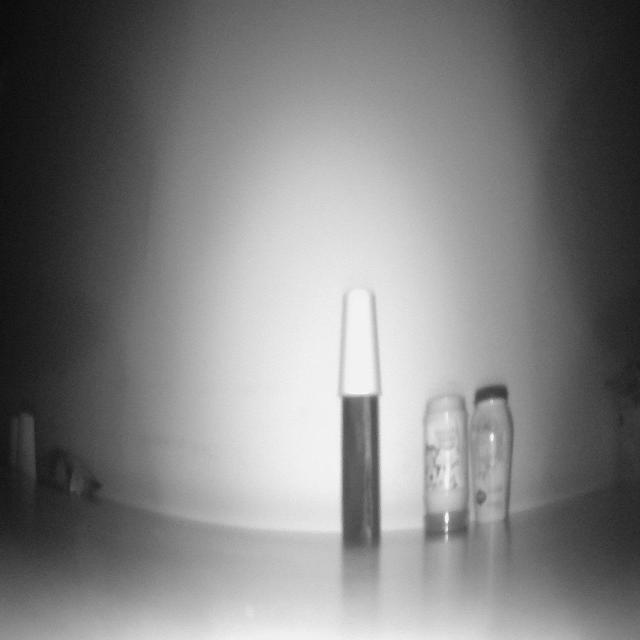targets: (424, 388, 468, 535), (470, 382, 512, 522), (341, 394, 378, 547), (339, 283, 382, 397), (43, 443, 100, 499), (15, 409, 36, 480)
